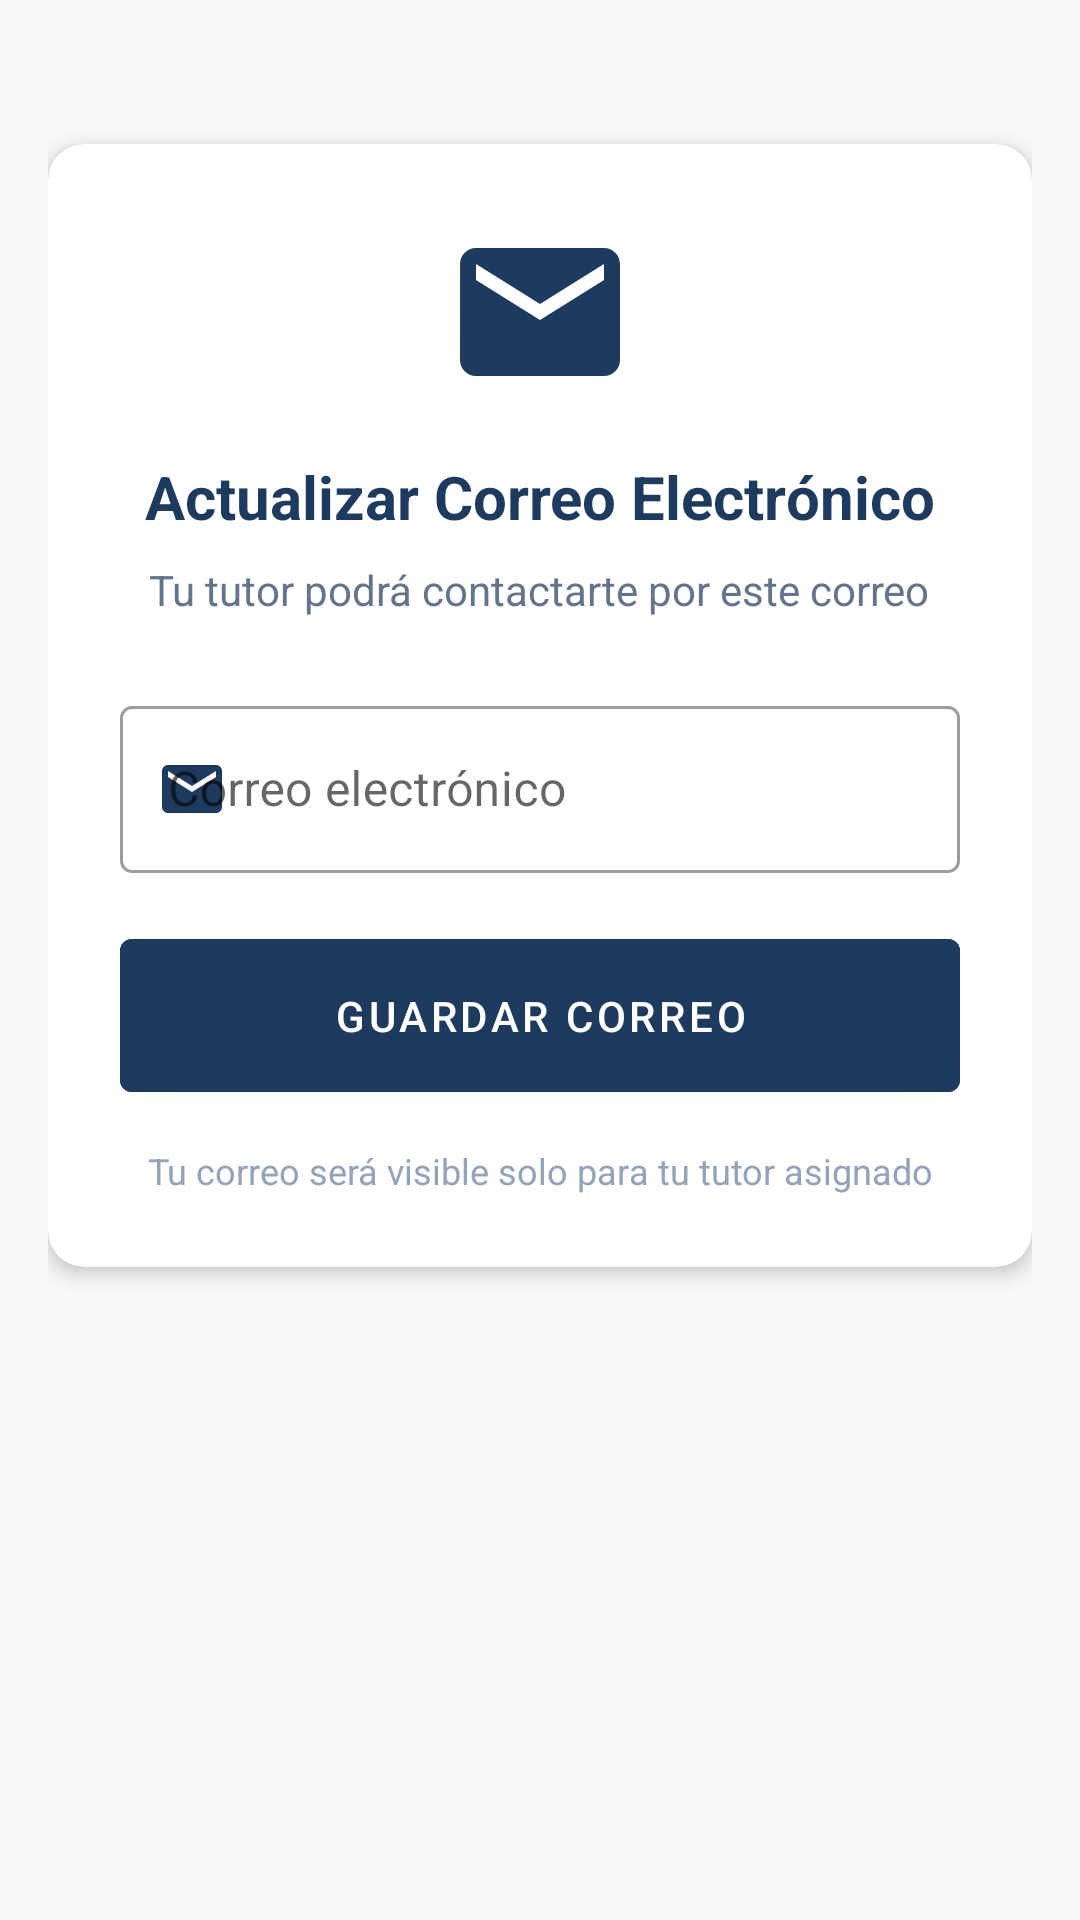

Where to tap for icons on this 1080*1920 app screen, as (x,y):
email: (540,312)
